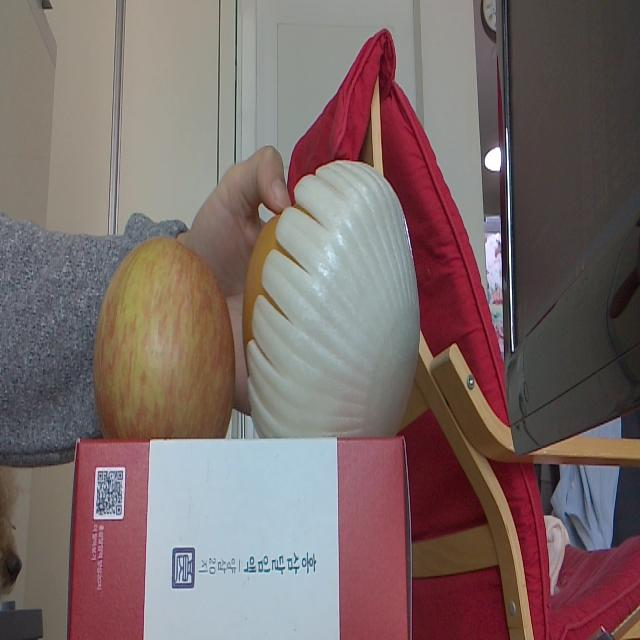apple: (93, 239, 234, 440)
pear: (239, 159, 421, 437)
